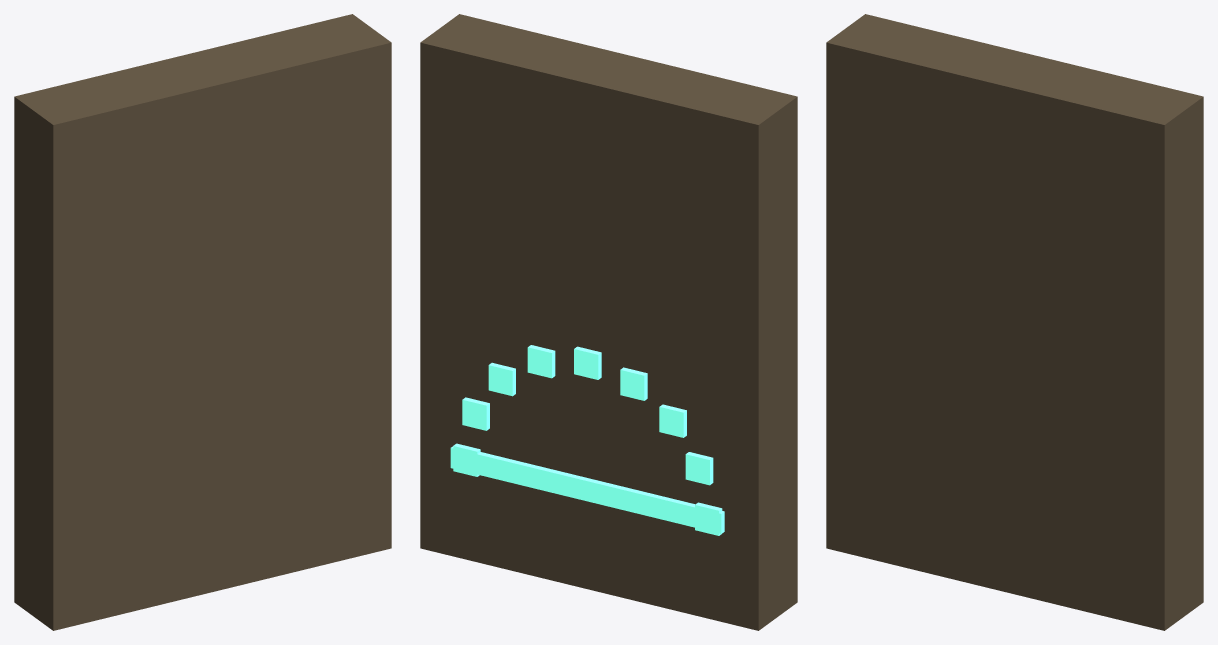
Rendered from glyph_bridge.glb.
3 views of the same model, side by side, from view 1: azimuth 30°, elevation 25°; view 2: azimuth 150°, elevation 25°; view 3: azimuth 330°, elevation 25° (orthographic).
Visible parts, largest first — view 1: GLYPH_Bridge; view 2: GLYPH_Bridge; view 3: GLYPH_Bridge.
Boxes of the visible parts, x1,y1,x2,y2 form: GLYPH_Bridge: (14, 14, 391, 630); GLYPH_Bridge: (420, 14, 797, 630); GLYPH_Bridge: (826, 14, 1203, 630).
Size of the model in its own units: 0.7 by 1 by 0.152.
